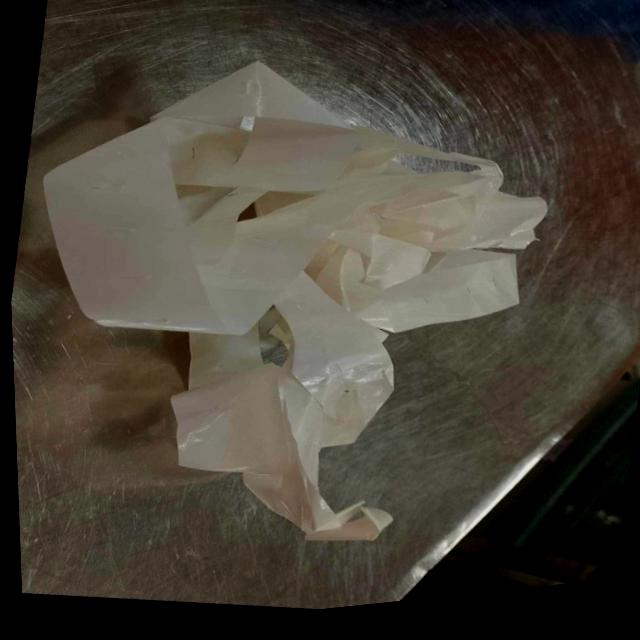General: (40, 60, 549, 545)
